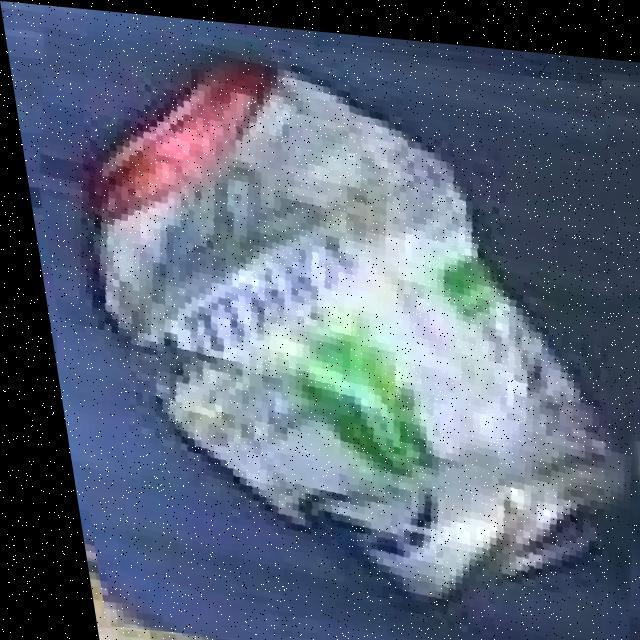can: (39, 20, 628, 640)
